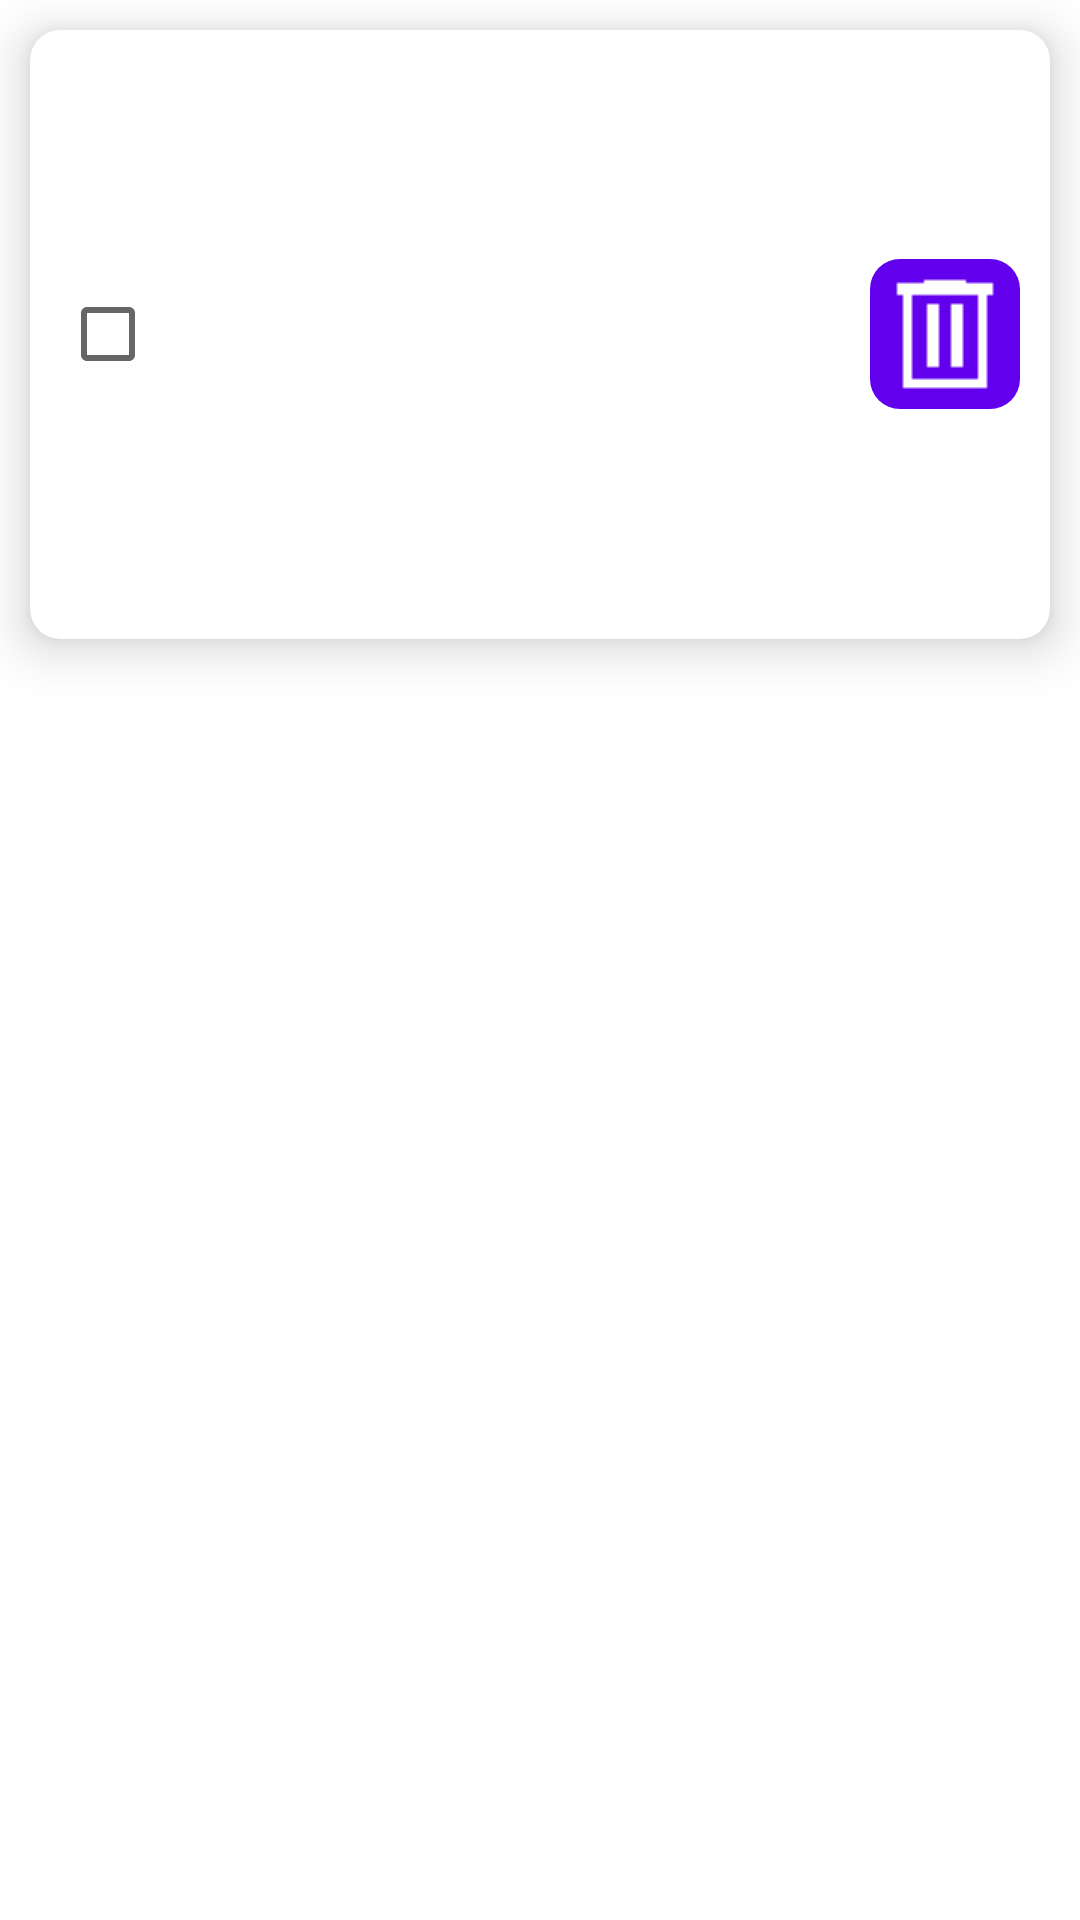

Point at icon controls on the screen. Image size 1080px x 1920px, points as (x=x, y=y).
delete: (x=945, y=334)
